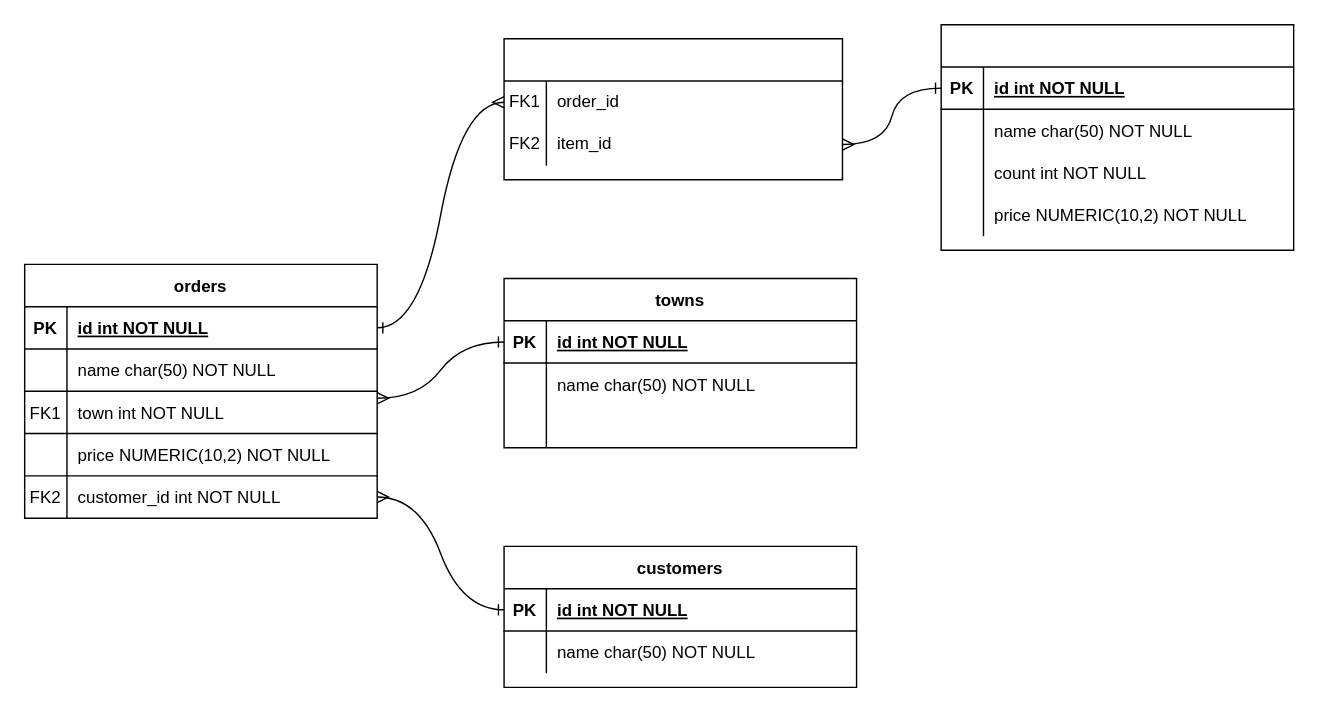
Image size: 1318x712. Some labels were removed from this diagram. Here are the shapes that lost their labels. From the top down, the box of each, then its label:
(503, 37, 842, 180): orders_items
(940, 23, 1294, 250): items
